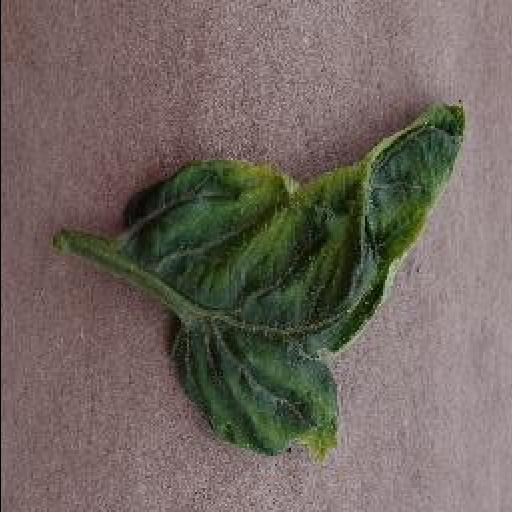disease_tomato: (120, 100, 468, 456)
